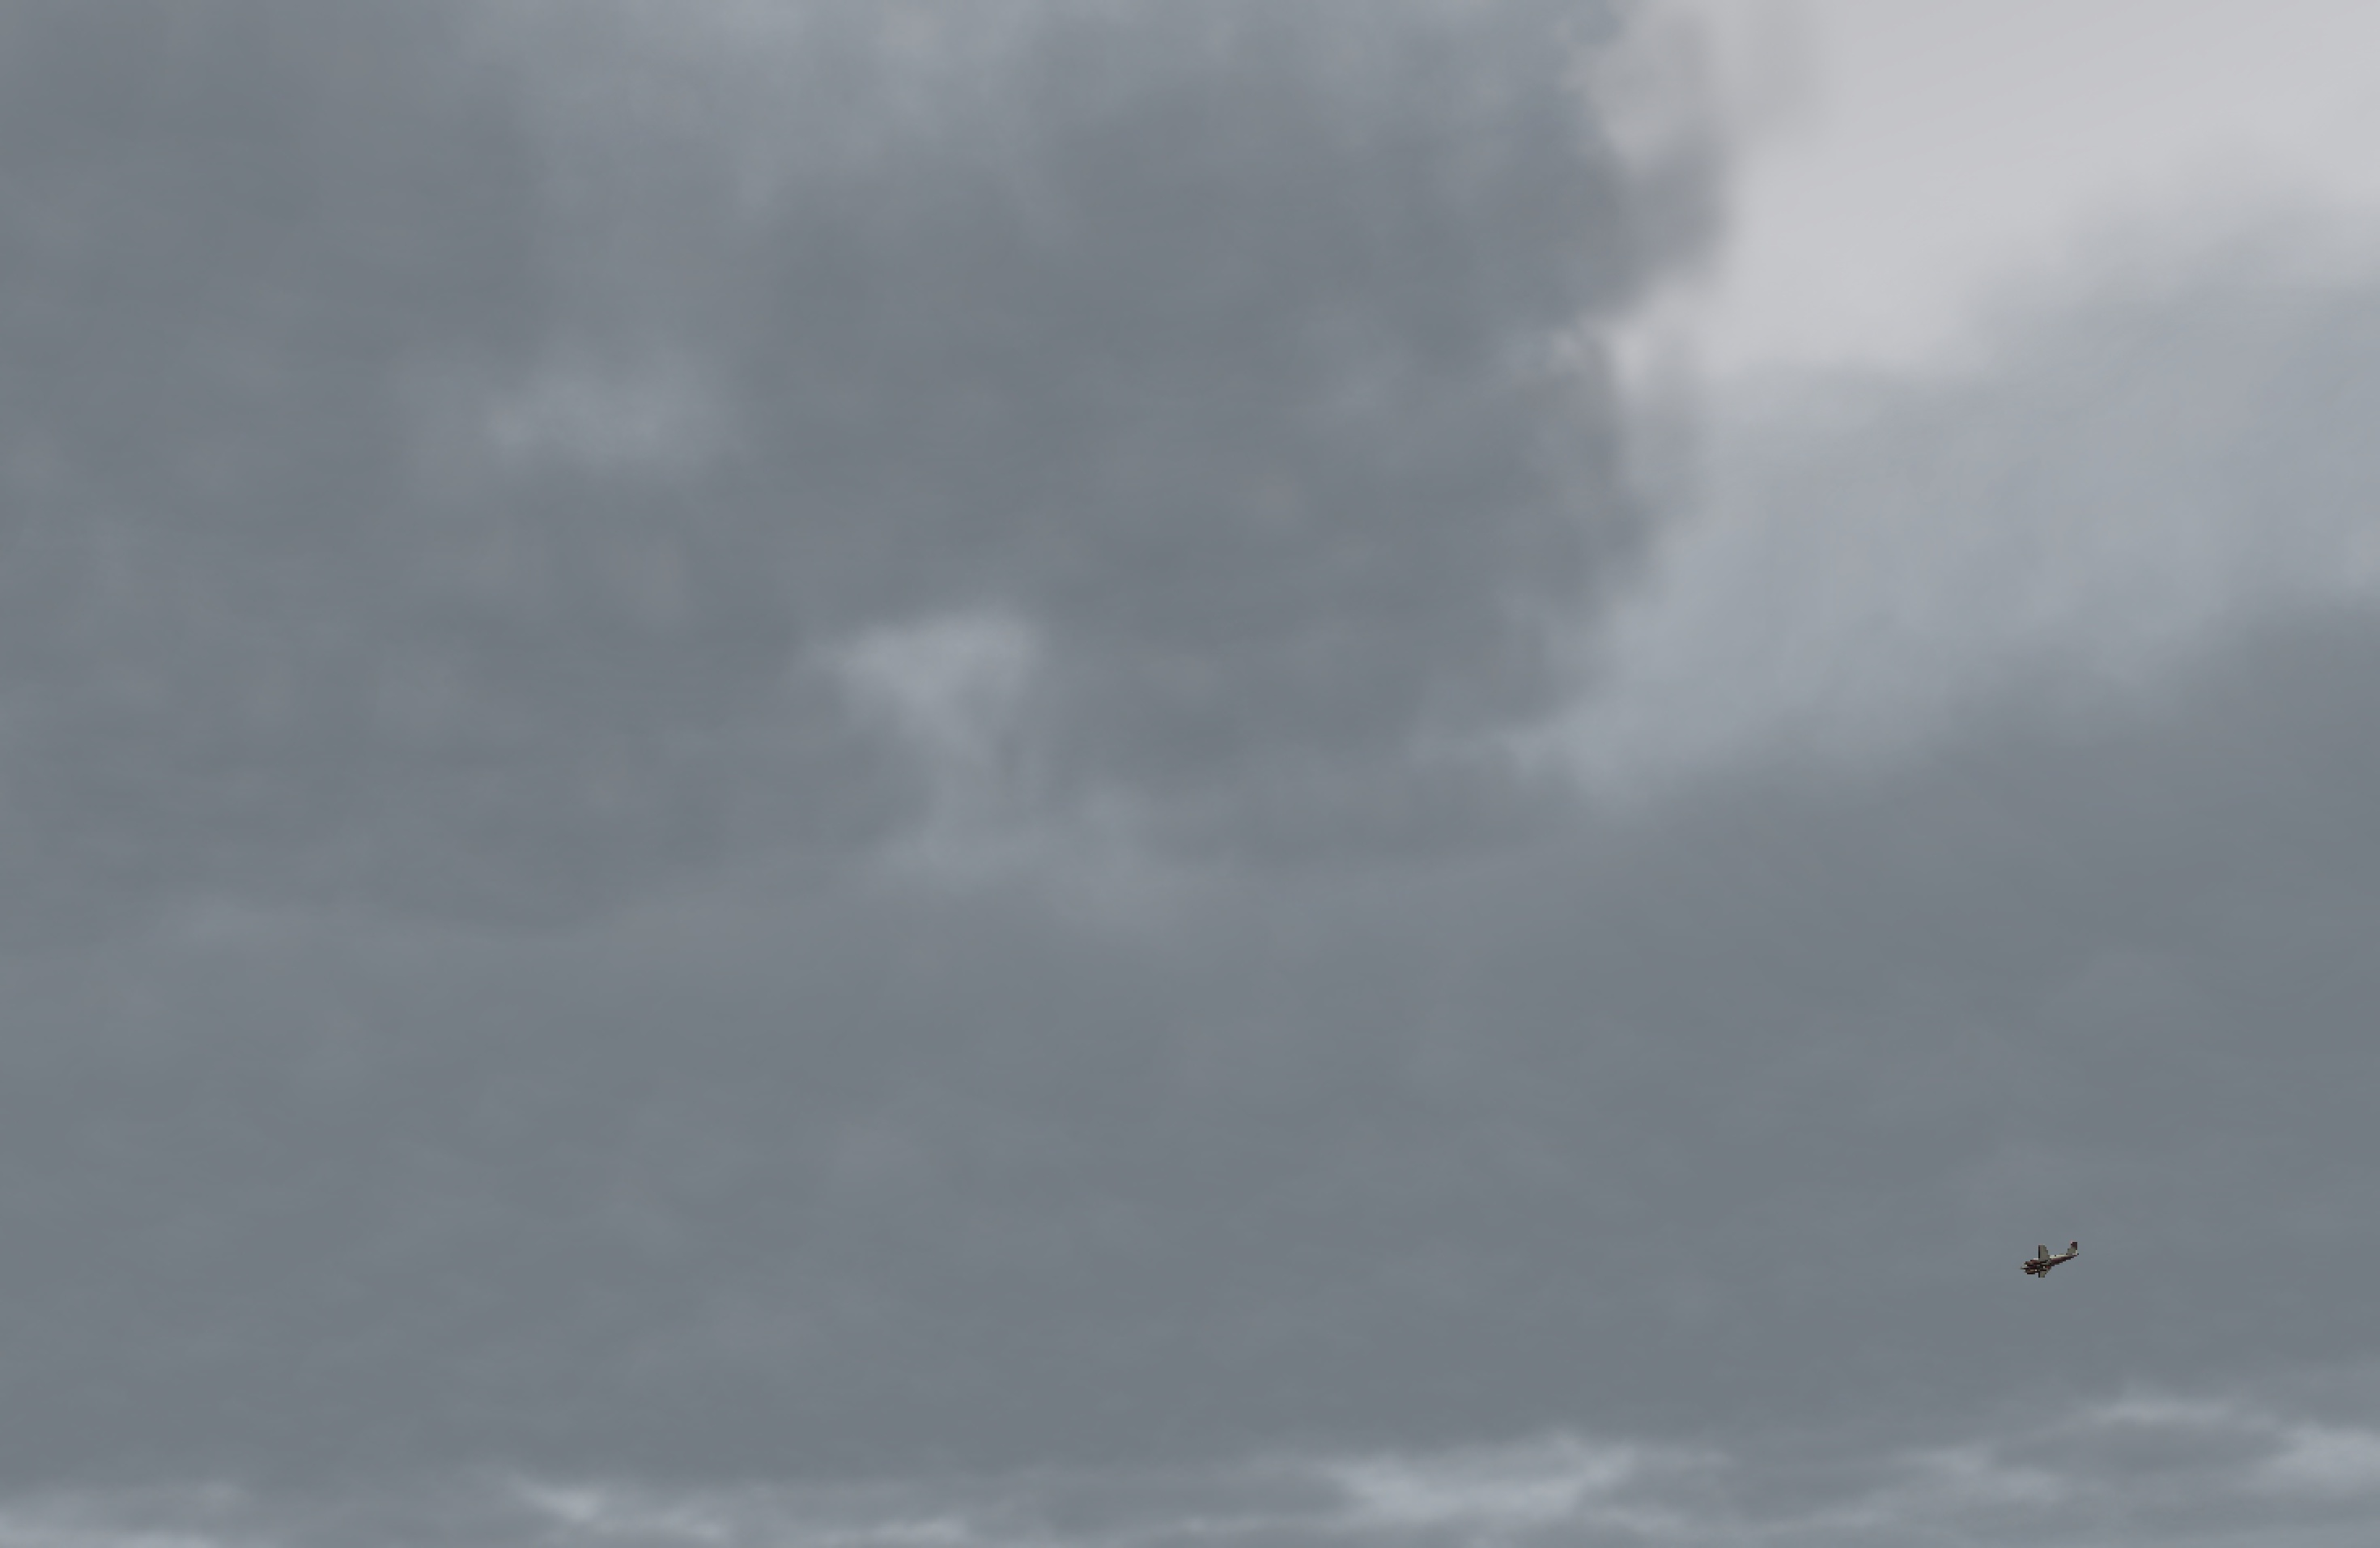aircraft: (2000, 1253, 2080, 1282)
